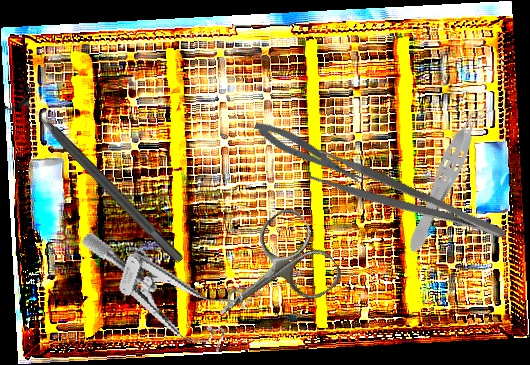Dressing Forceps: (305, 144, 510, 260)
Fixation Ring: (1, 81, 194, 274)
Iris Scissors: (192, 202, 347, 351)
Micro Scissor: (250, 115, 371, 194)
Speculum: (62, 230, 259, 359)
Tissue Forceps: (400, 97, 495, 258)
